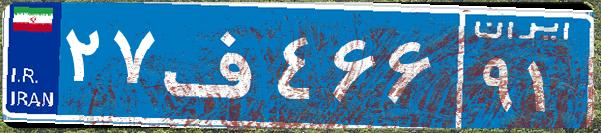1: (525, 38, 570, 115)
2: (57, 26, 110, 107)
4: (273, 28, 330, 110)
6: (385, 28, 445, 110), (330, 28, 385, 110)
7: (110, 28, 158, 105)
9: (475, 38, 525, 113)
ف: (158, 15, 273, 115)
